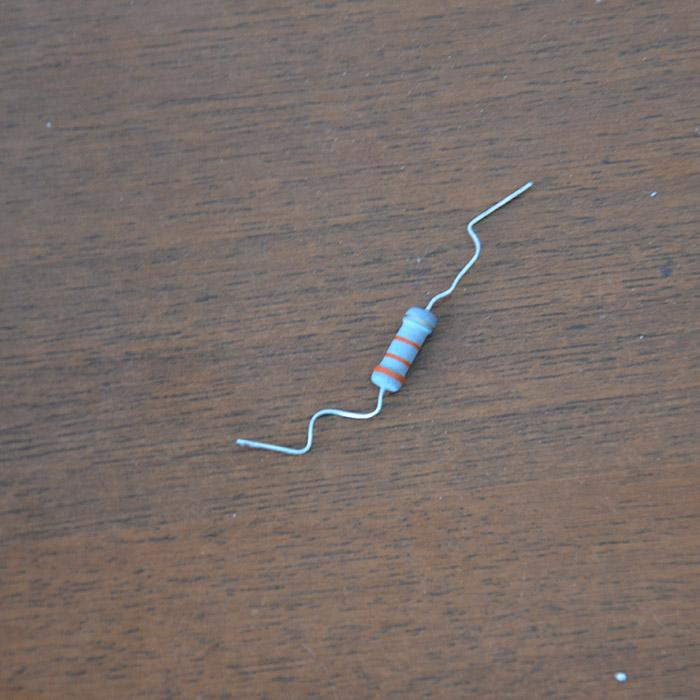resistor: (373, 305, 437, 393)
